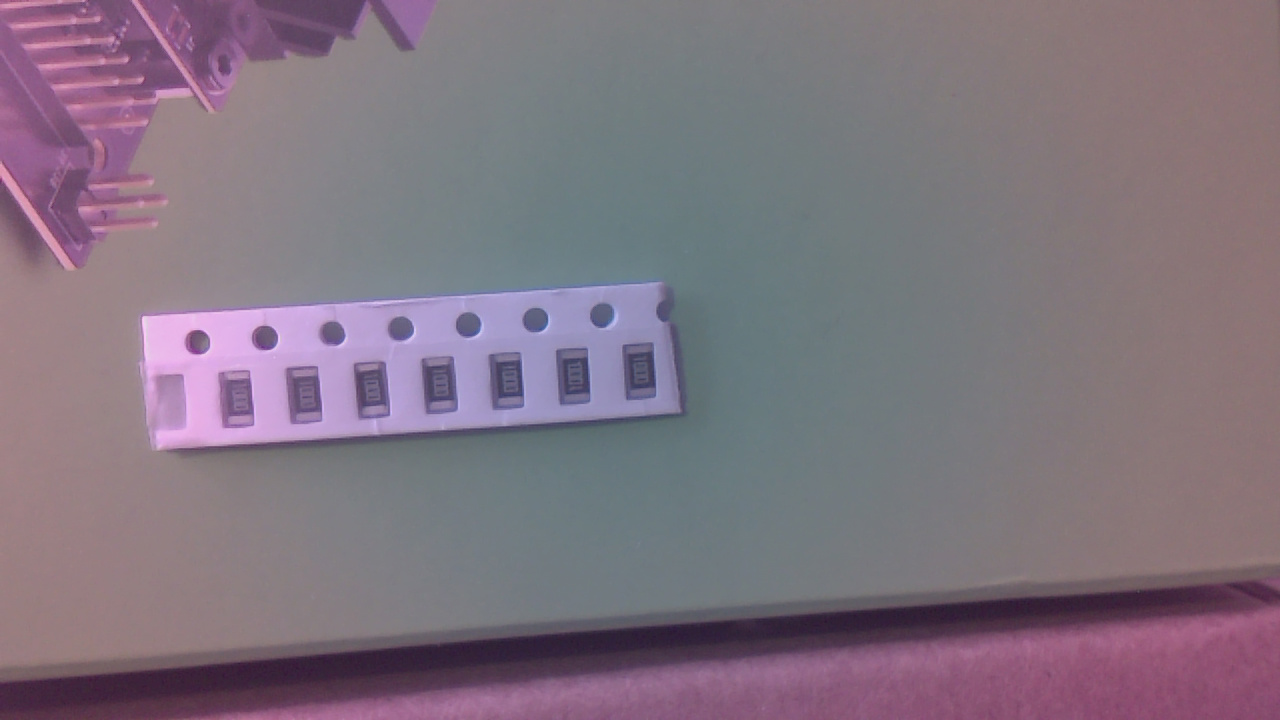Resistor: (627, 346, 664, 407), (495, 355, 530, 413), (224, 373, 259, 430), (562, 354, 596, 408), (294, 370, 326, 427), (361, 367, 393, 421), (430, 362, 459, 416)
